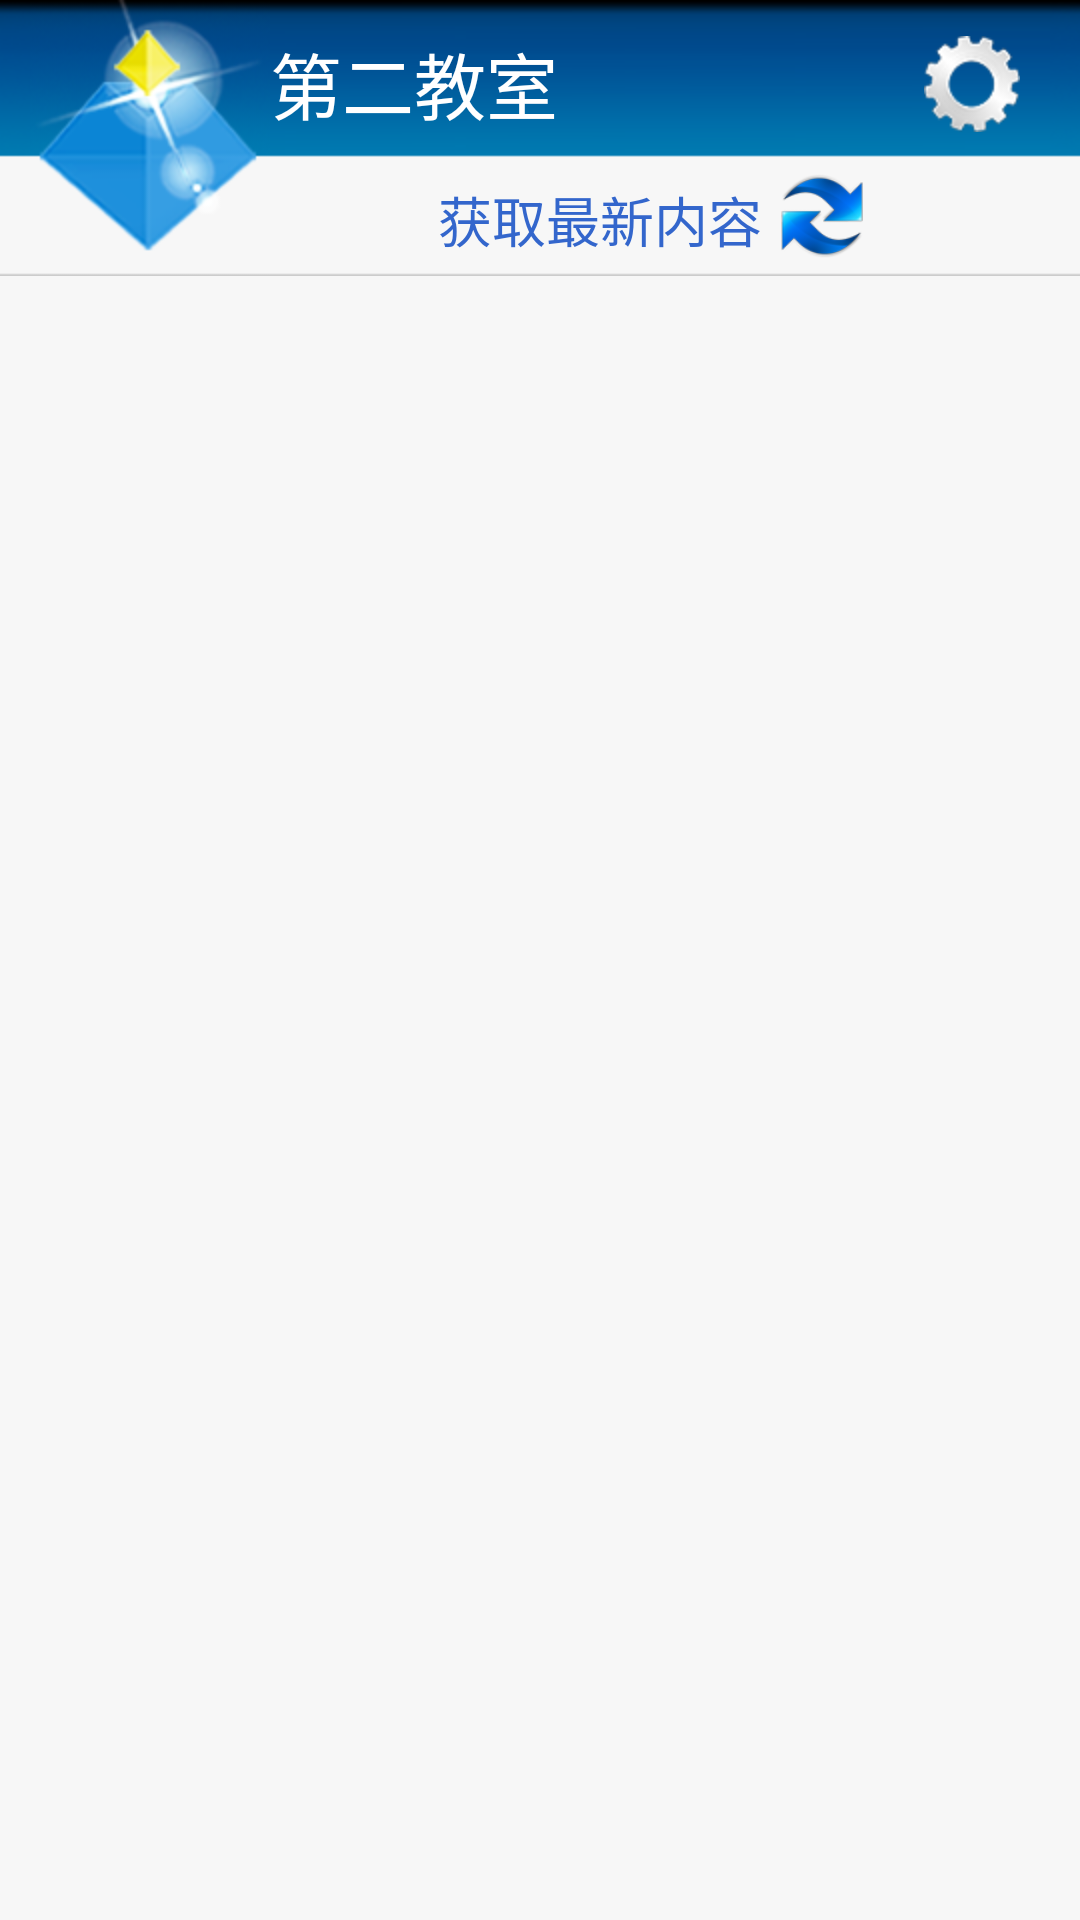

Screen size 1080 × 1920. Icon name, then its center in pixels as point (x, y):
设置: point (972, 78)
